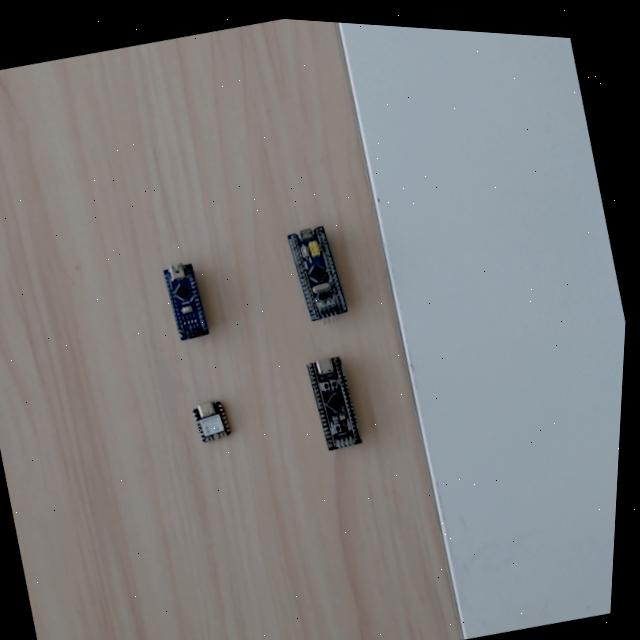Arduino-Nano: (156, 260, 210, 345)
ESP32C3-Xiao: (185, 394, 234, 445)
STM32-Blackpill: (301, 353, 361, 453)
STM32-Bluepill: (279, 221, 350, 325)
